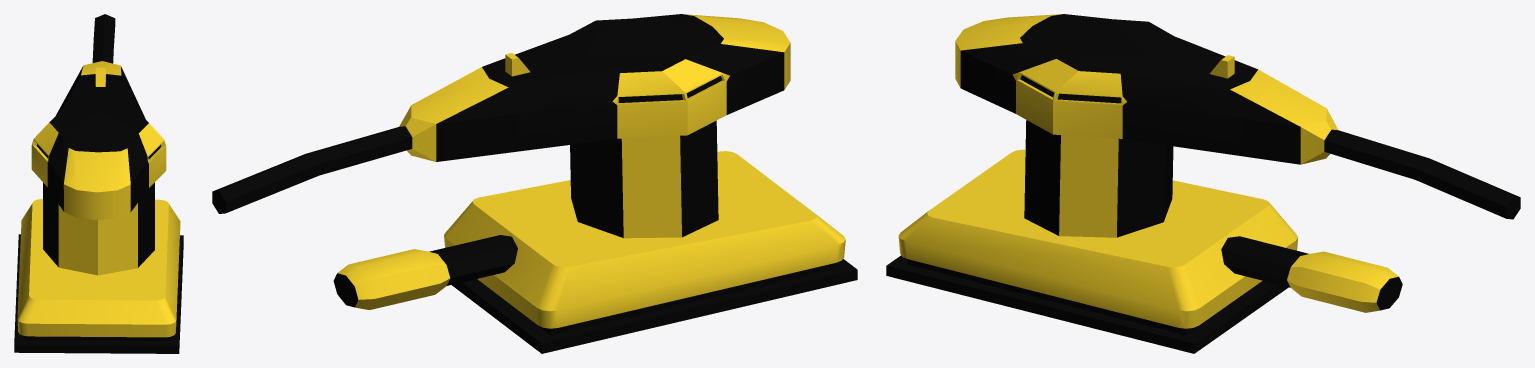
File: SarıMakine.fbx
3 views of the same model, side by side, from view 1: azimuth 30°, elevation 25°; view 2: azimuth 150°, elevation 25°; view 3: azimuth 270°, elevation 25° (orthographic). The views are drawn at different scales.
Parts seen in each view (by area): view 1: SarıMakine; view 2: SarıMakine; view 3: SarıMakine.
Boxes of the visible parts, <box> form: SarıMakine: <box>14,14,183,353</box>; SarıMakine: <box>212,14,857,353</box>; SarıMakine: <box>886,14,1520,353</box>.
Bounding box in the file's own units: 0.561 × 0.3419 × 0.7903.
